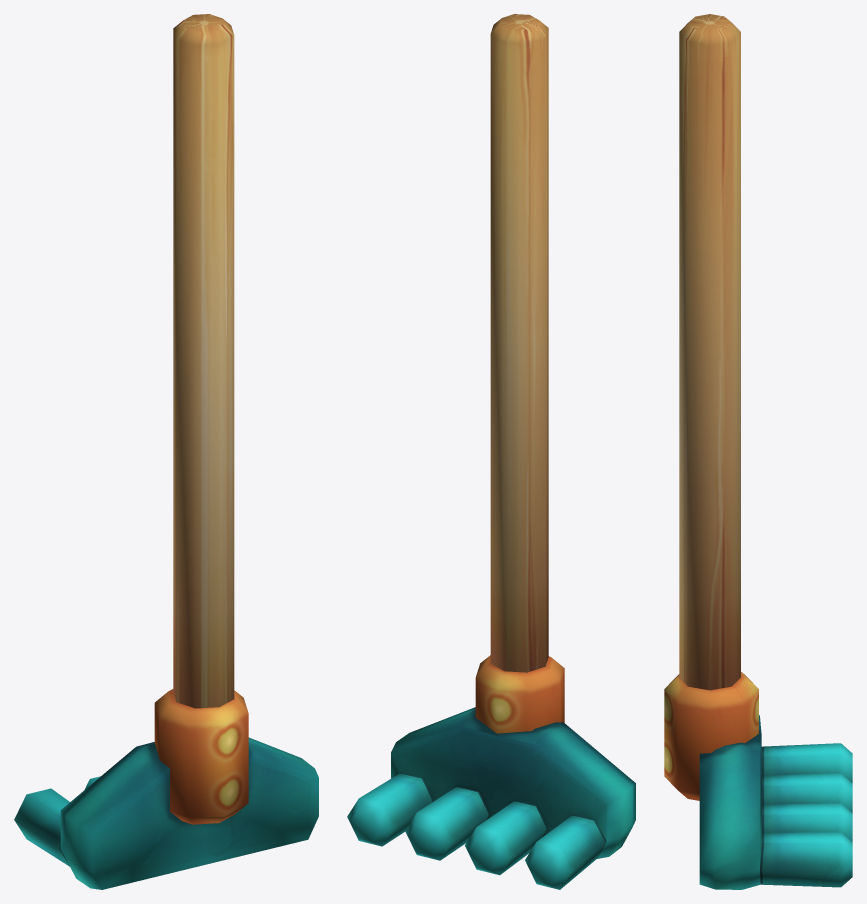
File: SE_Rake_01.fbx
3 renders of one model, left to right at view 1: azimuth 30°, elevation 25°; view 2: azimuth 150°, elevation 25°; view 3: azimuth 270°, elevation 25°, orthographic. The views are drawn at different scales.
Visible parts, largest first — view 1: SE_Rake_01; view 2: SE_Rake_01; view 3: SE_Rake_01.
Part boxes in pixels (box(x1,y1,x2,y2)): SE_Rake_01: box(14, 14, 318, 889); SE_Rake_01: box(347, 14, 635, 889); SE_Rake_01: box(664, 14, 852, 889).
Size of the model in its own units: 1.14 by 3.88 by 0.8092.
